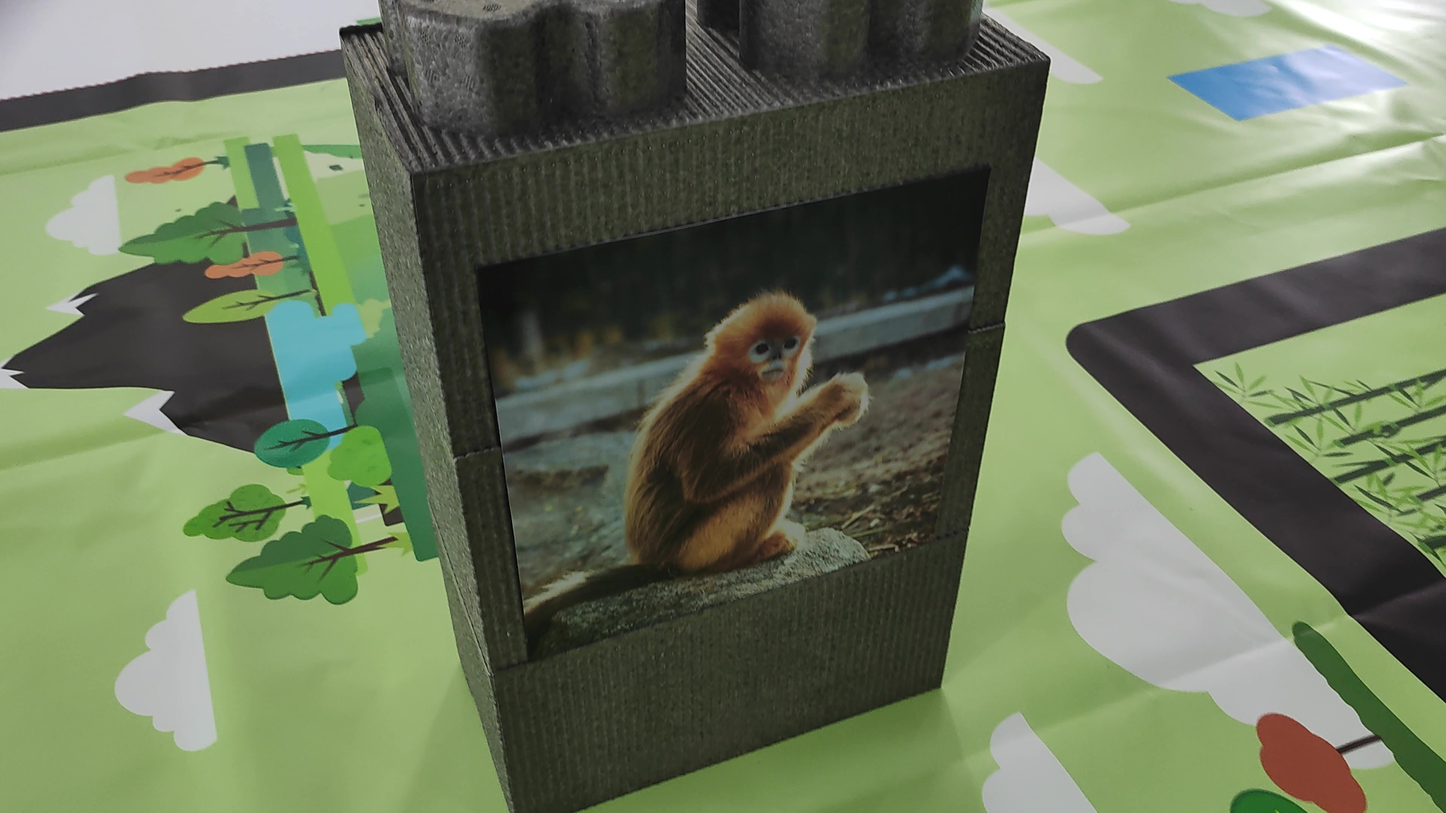monkey: (519, 275, 879, 607)
